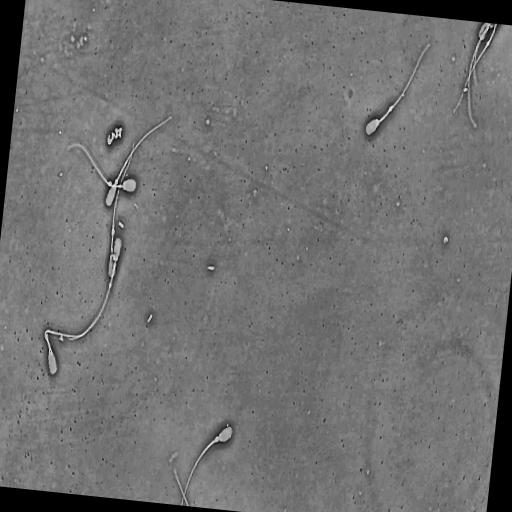dirt-particles: (103, 122, 126, 148)
distal-droplet: (388, 105, 393, 113), (111, 228, 115, 237), (107, 181, 112, 187), (109, 282, 112, 289)
folded-tail: (43, 318, 97, 353)
normal: (105, 113, 173, 207), (365, 42, 431, 136), (67, 235, 123, 341), (180, 423, 234, 505), (107, 141, 135, 278), (66, 142, 138, 194), (43, 319, 97, 376)
proximal-droplet: (215, 435, 220, 443), (114, 178, 118, 185)
